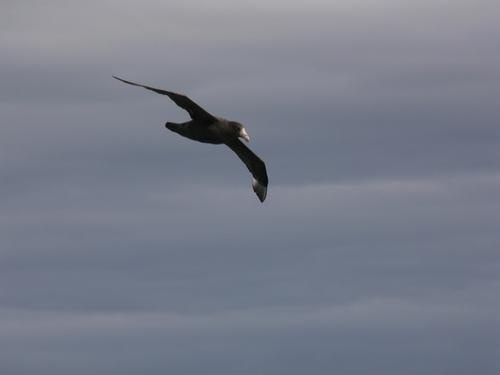bird: (111, 73, 270, 205)
